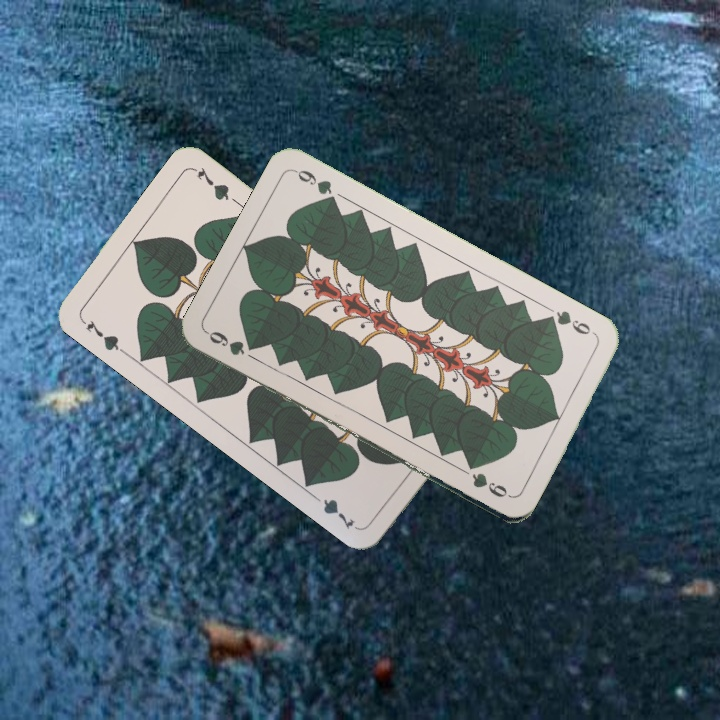G7: (77, 315, 128, 357)
G9: (203, 327, 258, 358), (542, 306, 594, 338)
